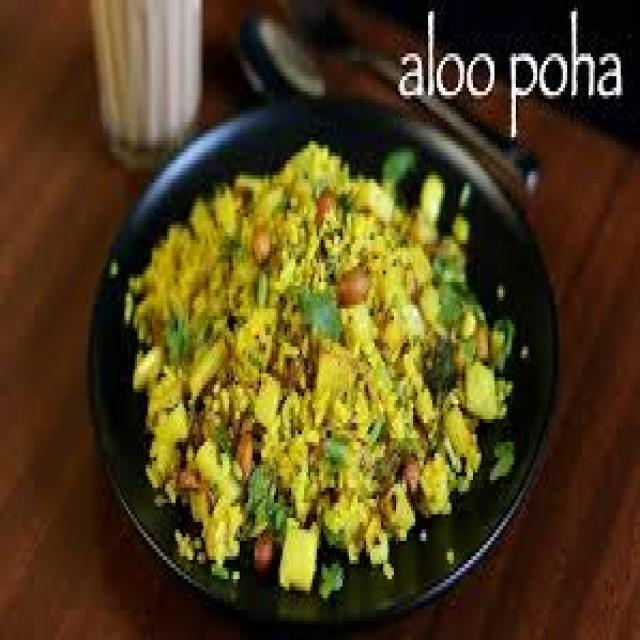POHA: (135, 147, 501, 575)
